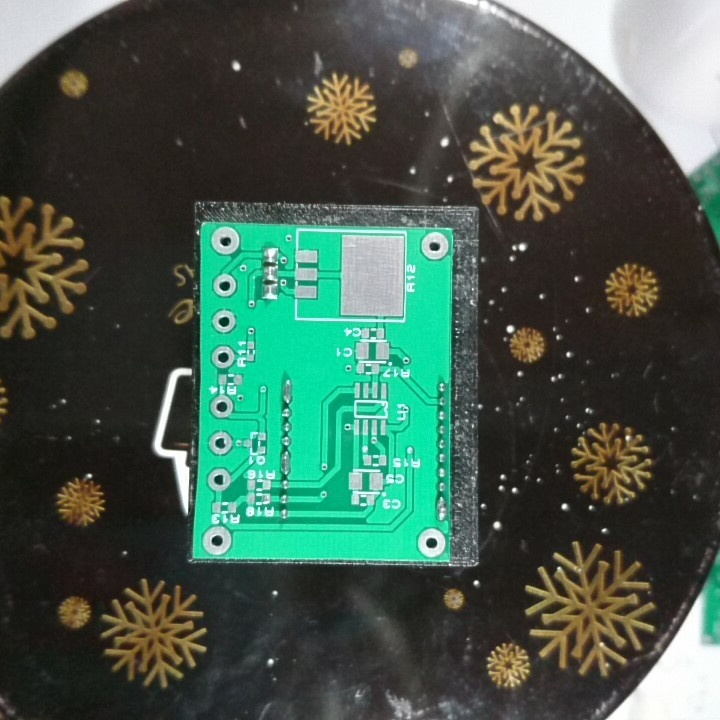F: (419, 230, 451, 263), (202, 523, 234, 556), (210, 225, 241, 256), (417, 526, 445, 559), (209, 307, 239, 335), (211, 271, 239, 300), (208, 343, 237, 371), (206, 466, 233, 495), (208, 429, 234, 458), (209, 394, 234, 421)
P: (280, 377, 297, 406), (434, 493, 448, 524), (279, 449, 294, 477)
